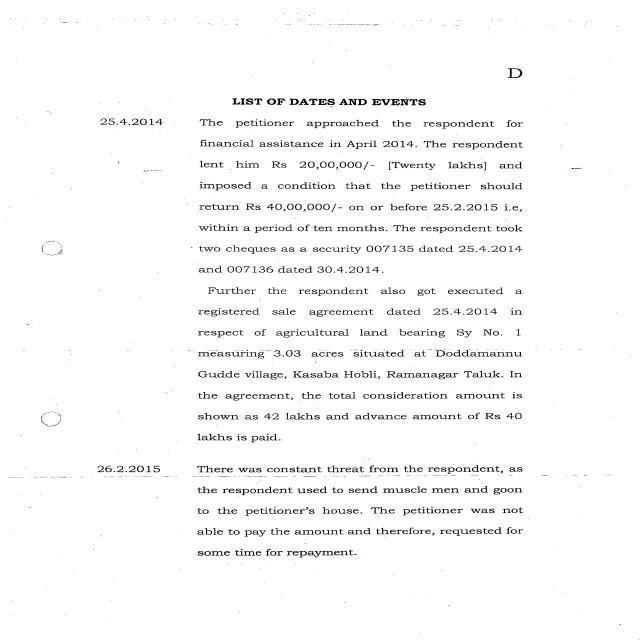page-number: (428, 22, 638, 118)
